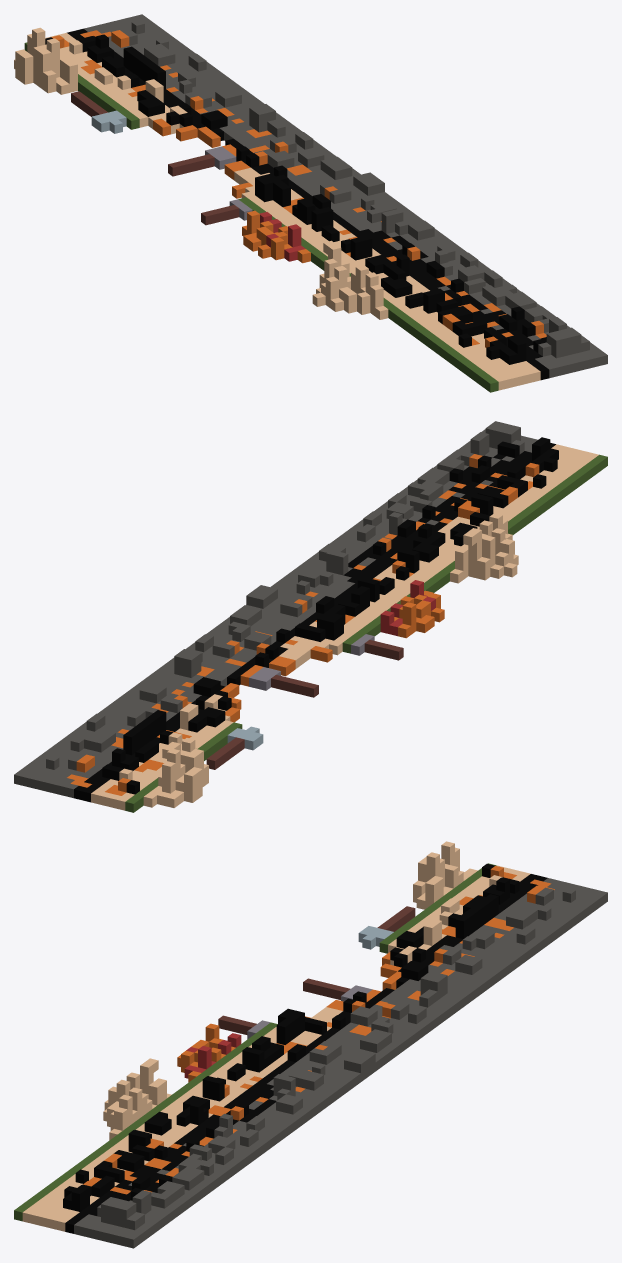
Rendered from amber_mine_1.obj.
3 views of the same model, one above another, from view 1: azimuth 30°, elevation 25°; view 2: azimuth 150°, elevation 25°; view 3: azimuth 330°, elevation 25° (orthographic).
Bounding box in the file's own units: 1.9 × 0.5 × 9.6.
1 material, 1 textured.
